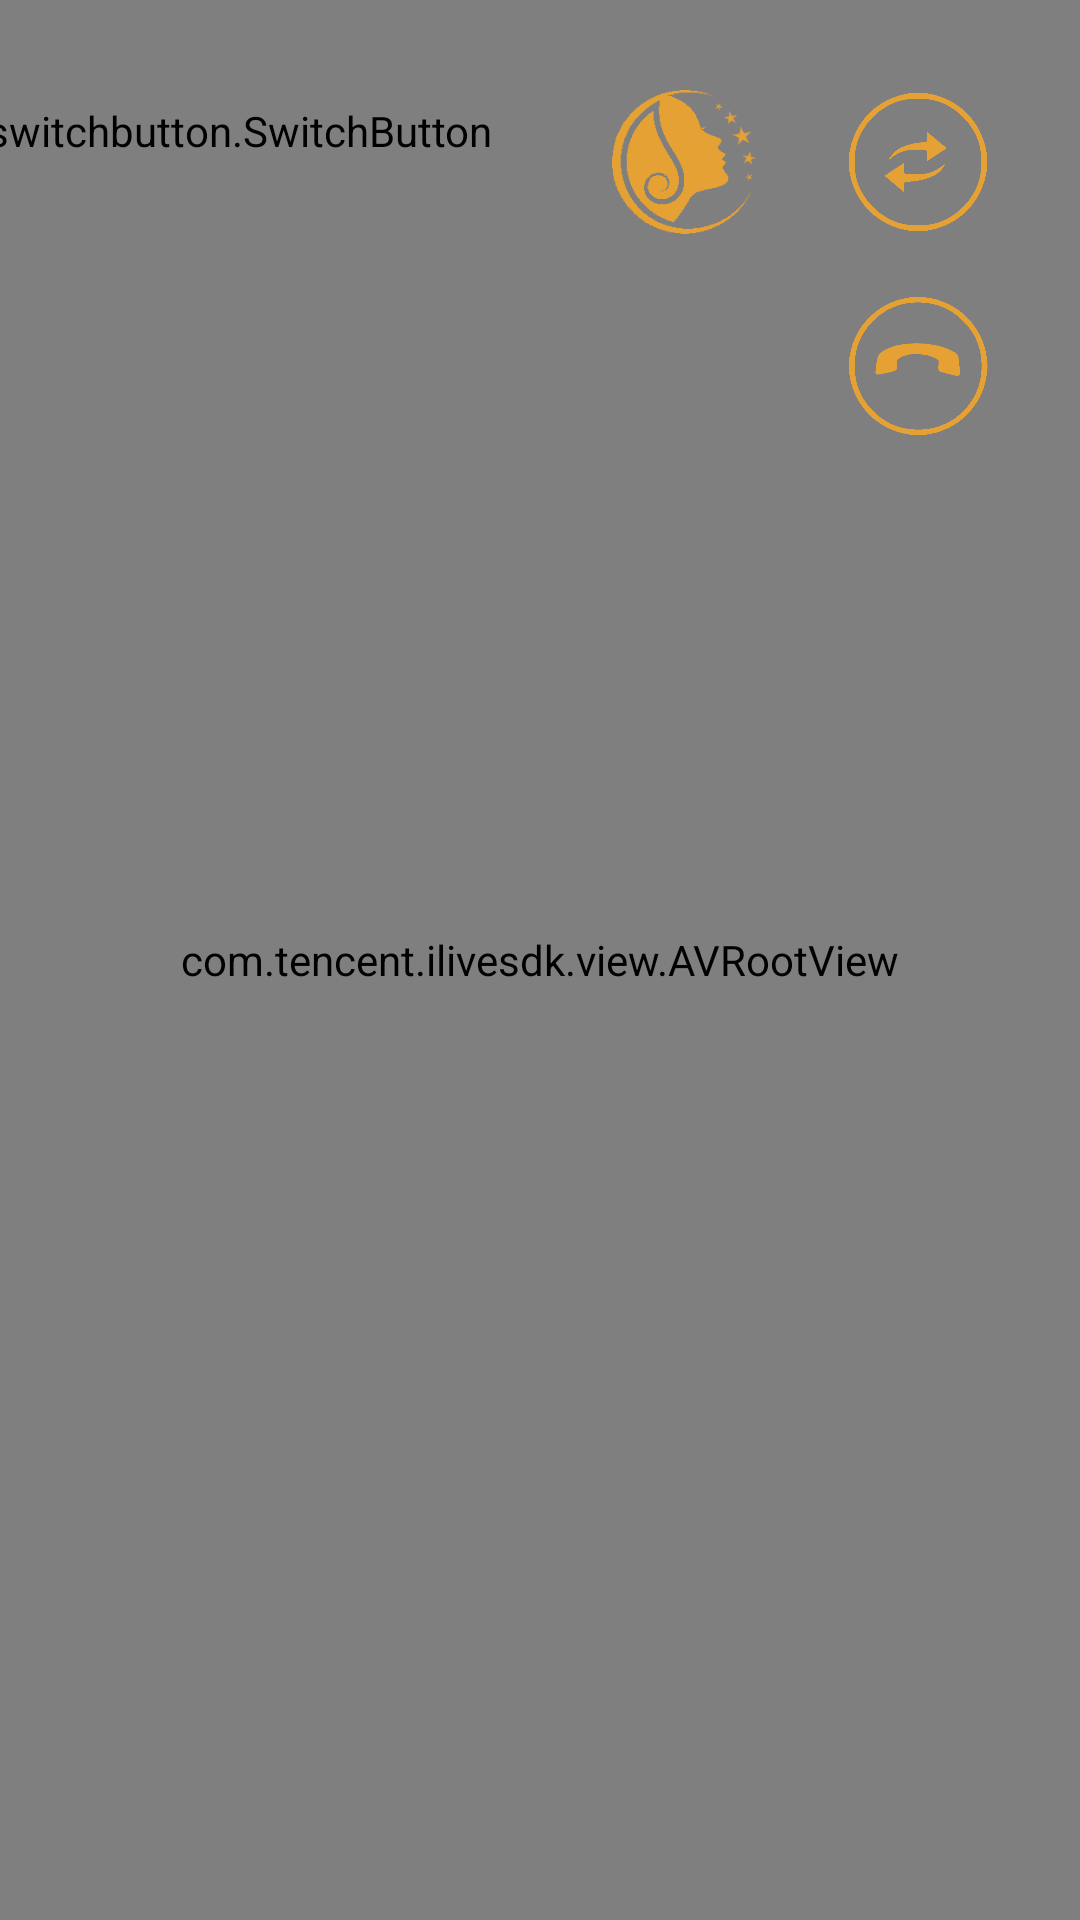

Screen size 1080x1920. Icon name, then its center in pixels as (x,y):
hangup call: (918,366)
meiyan: (684,162)
recycle: (918,162)
